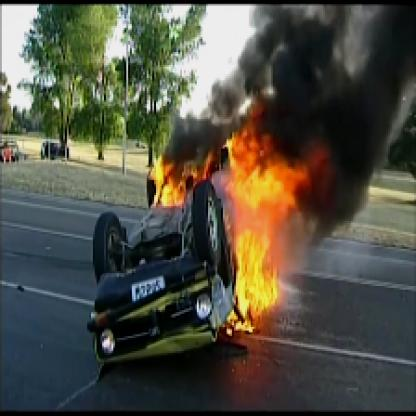Fire: (147, 100, 323, 336)
